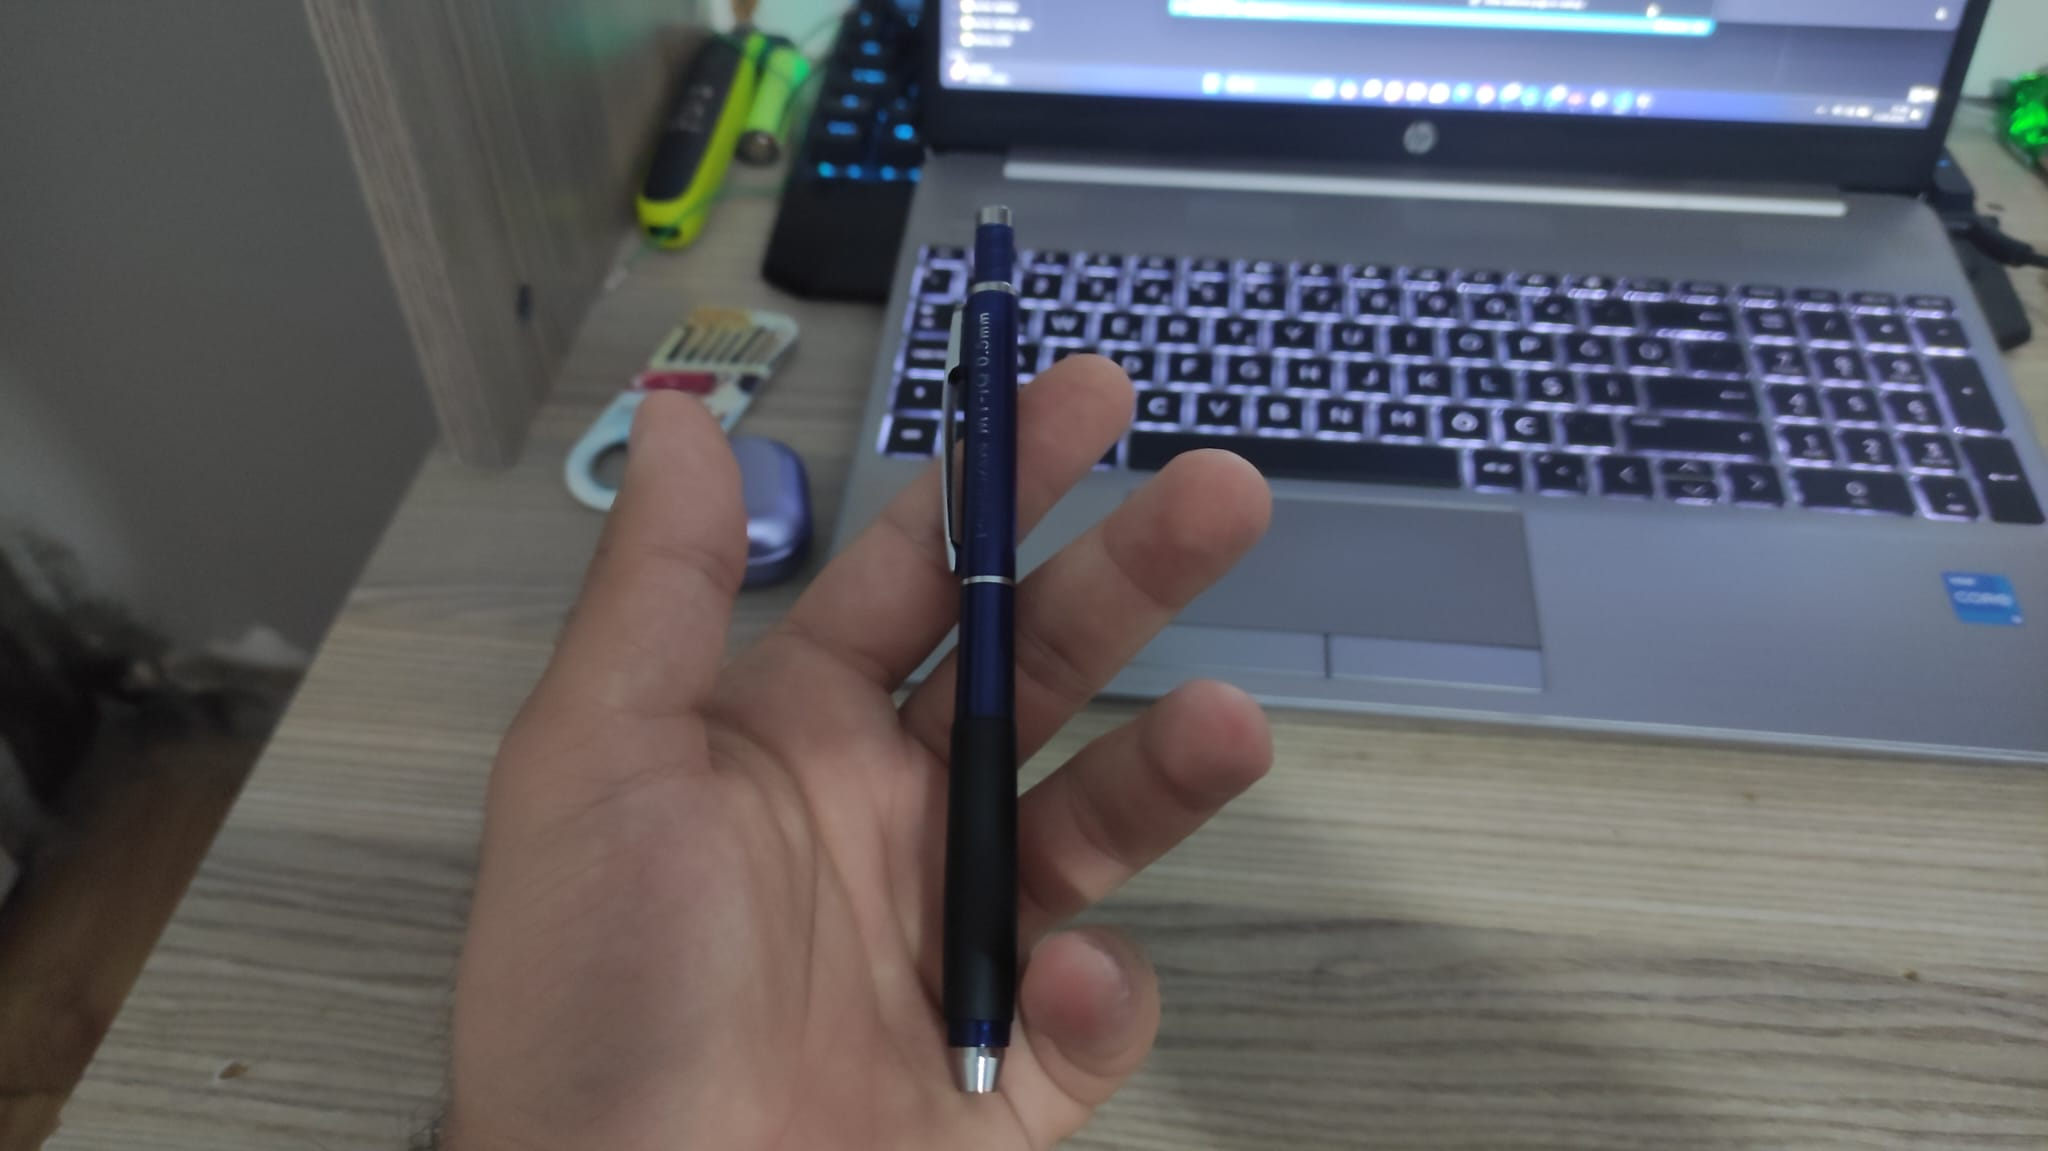kalem: (938, 193, 1021, 1096)
